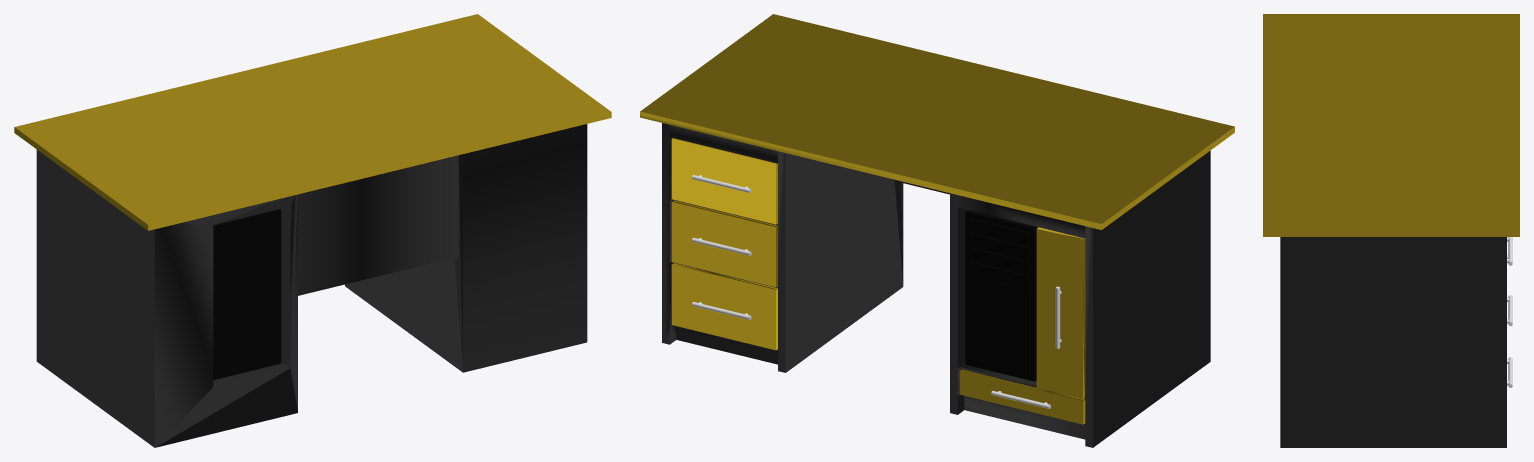
Rendered from table.fbx.
The picture shows the model from 3 angles, left to right: view 1: azimuth 30°, elevation 25°; view 2: azimuth 150°, elevation 25°; view 3: azimuth 270°, elevation 25°; orthographic projection. The views are drawn at different scales.
Visible parts, largest first — view 1: Mesh1_Model, Cube; view 2: Mesh1_Model, Cube; view 3: Mesh1_Model.
Boxes of the visible parts, x1,y1,x2,y2 form: Mesh1_Model: (14, 14, 611, 447); Cube: (213, 209, 281, 379); Mesh1_Model: (640, 14, 1234, 447); Cube: (965, 210, 1036, 381); Mesh1_Model: (1263, 14, 1519, 447).
Bounding box in the file's own units: 120 × 57.75 × 60.
